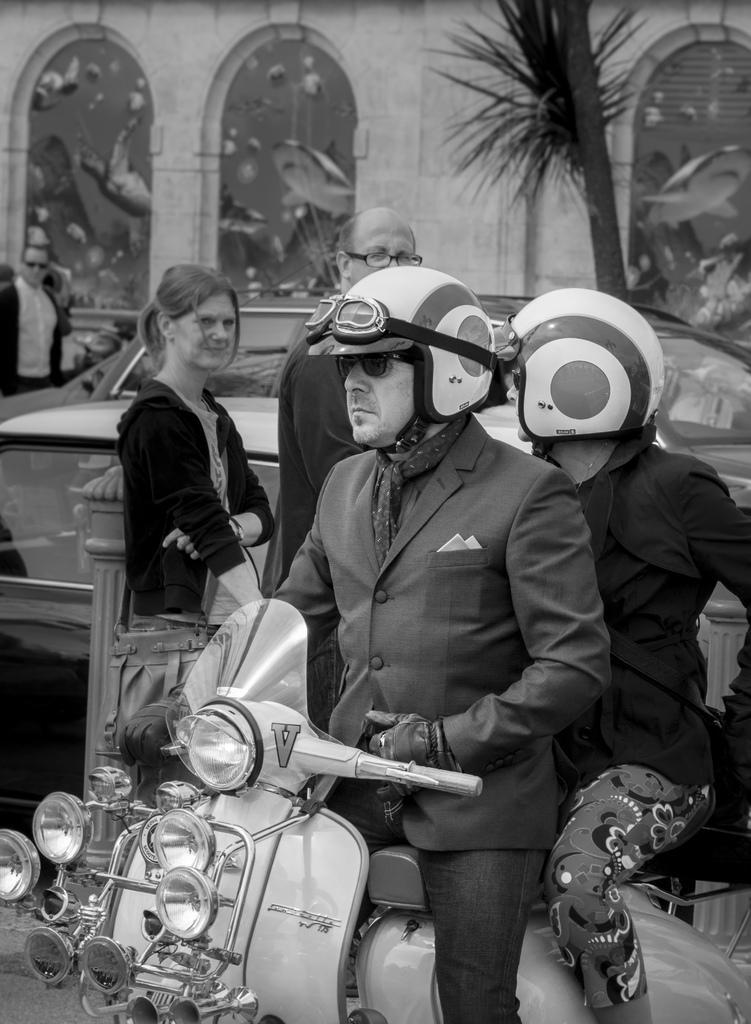helmet: (306, 265, 496, 444), (489, 287, 666, 443)
nohelmet: (155, 263, 241, 380), (335, 206, 423, 317), (19, 244, 51, 289)
